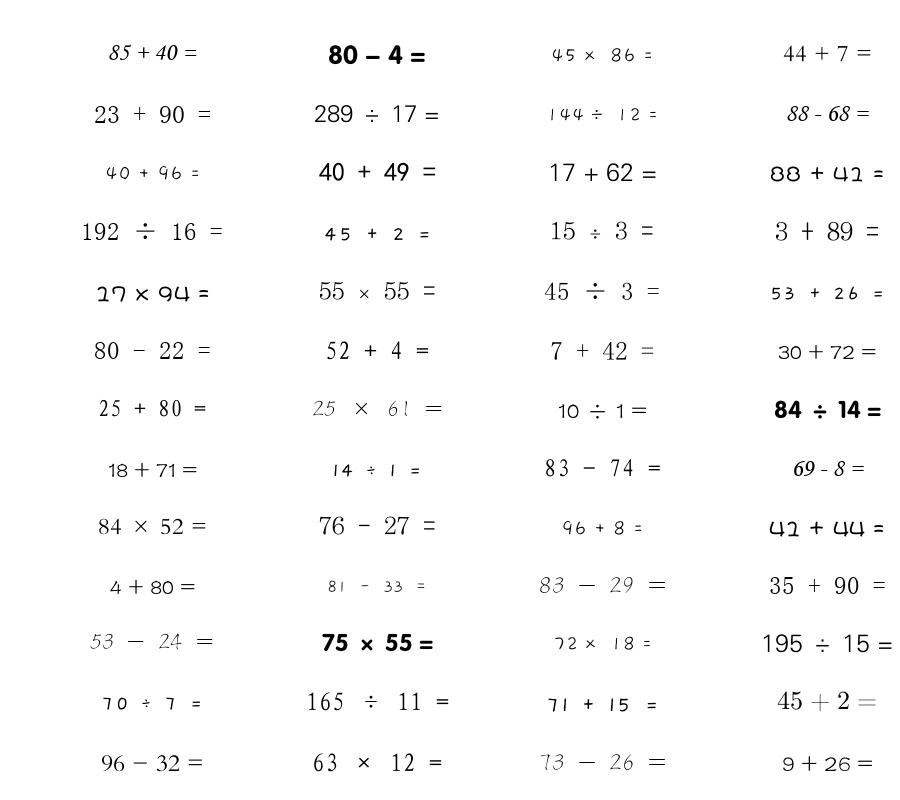MQ: (306, 692, 449, 711), (81, 222, 223, 240), (761, 634, 893, 653), (312, 753, 442, 772), (319, 162, 436, 182), (314, 105, 440, 123), (312, 400, 443, 417), (319, 281, 436, 300), (319, 516, 436, 535), (539, 754, 666, 771), (322, 633, 433, 652), (90, 633, 214, 650), (544, 459, 661, 477), (777, 691, 877, 712), (544, 282, 660, 300), (775, 221, 879, 241), (548, 163, 657, 182), (774, 400, 881, 419), (539, 577, 666, 593), (94, 106, 211, 123), (94, 342, 211, 359), (769, 577, 886, 594), (550, 221, 654, 240), (325, 341, 429, 360), (328, 45, 426, 65), (98, 399, 206, 417), (550, 342, 654, 360), (769, 521, 885, 537), (98, 518, 207, 535), (95, 286, 210, 302), (770, 166, 884, 182), (101, 755, 204, 772), (769, 286, 885, 300), (546, 698, 659, 712), (546, 108, 658, 122), (778, 344, 876, 360), (782, 755, 873, 772), (551, 48, 653, 63), (105, 165, 200, 181), (783, 45, 872, 62), (323, 227, 431, 241), (553, 636, 652, 651), (107, 44, 197, 60), (108, 462, 197, 478), (110, 579, 195, 595), (558, 404, 647, 419), (101, 697, 203, 710), (561, 520, 643, 536), (327, 580, 427, 593), (785, 106, 869, 121), (332, 464, 422, 477), (791, 461, 864, 476)
